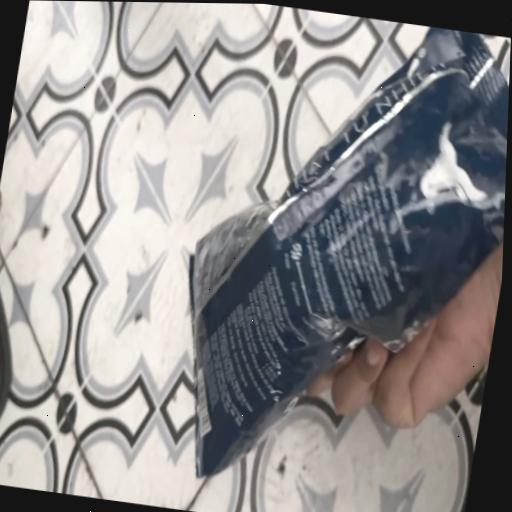cafe_hat: (190, 26, 509, 475)
